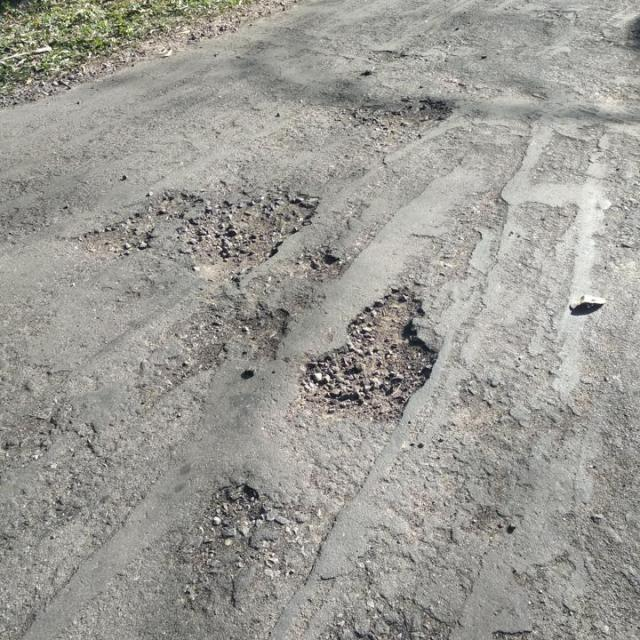pothole: (294, 284, 444, 426), (177, 178, 323, 276), (180, 480, 268, 606), (68, 186, 202, 258), (172, 306, 292, 375), (371, 95, 457, 147), (283, 247, 344, 279)
